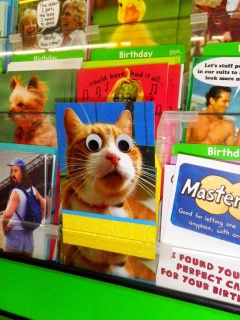Cat: (57, 105, 154, 273)
